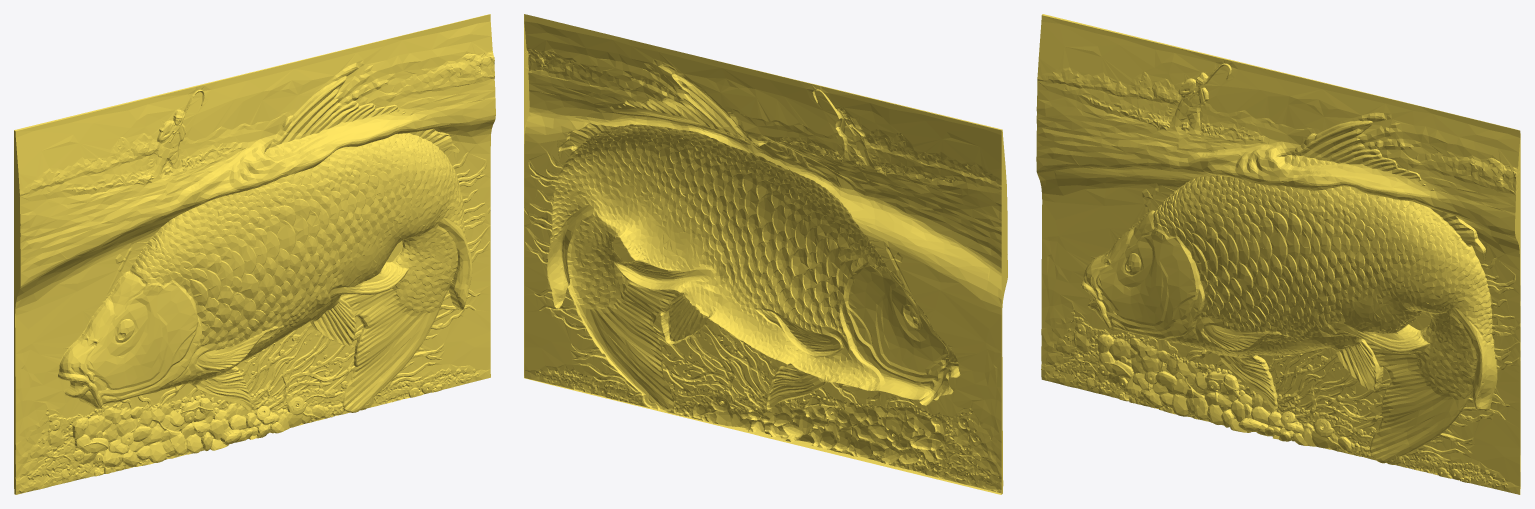
File: card-565.glb
The picture shows the model from 3 angles, left to right: view 1: azimuth 30°, elevation 25°; view 2: azimuth 150°, elevation 25°; view 3: azimuth 330°, elevation 25°; orthographic projection.
Parts seen in each view (by area): view 1: geometry_0; view 2: geometry_0; view 3: geometry_0.
Boxes of the visible parts, <box> form: geometry_0: <box>14,14,495,494</box>; geometry_0: <box>524,14,1007,494</box>; geometry_0: <box>1036,14,1520,494</box>.
Bounding box in the file's own units: 0.4796 × 0.35 × 0.0344.
